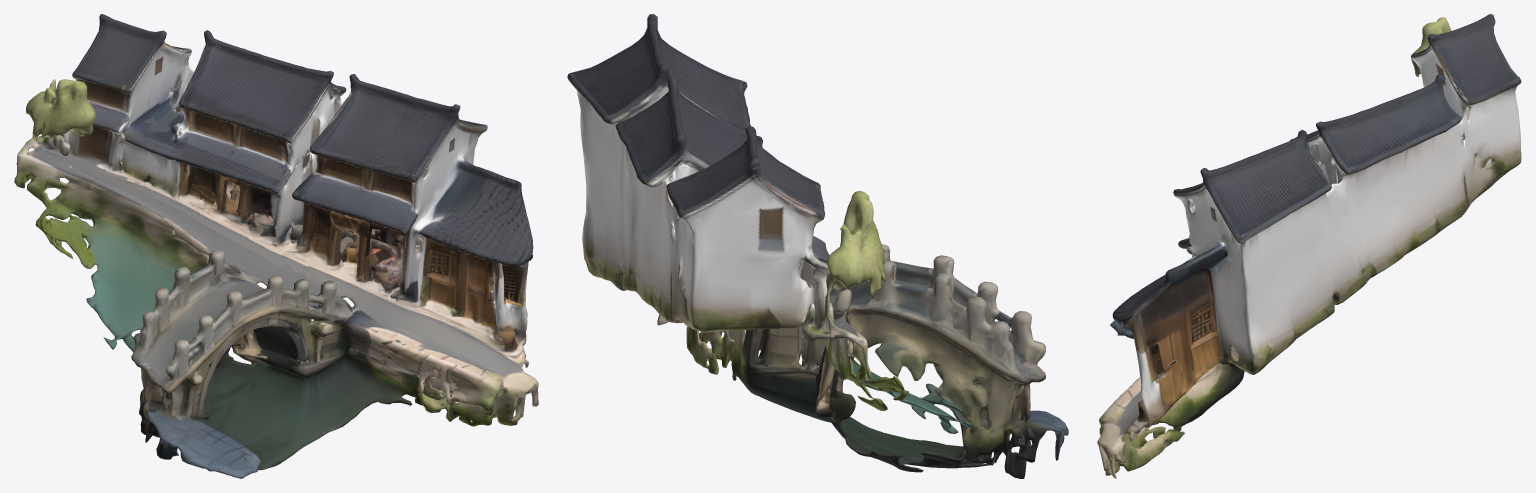
3 renders of one model, left to right at view 1: azimuth 30°, elevation 25°; view 2: azimuth 150°, elevation 25°; view 3: azimuth 270°, elevation 25°, orthographic. The views are drawn at different scales.
Visible parts, largest first — view 1: material.001; view 2: material.001; view 3: material.001.
Part boxes in pixels (x1,y1,x2,y2): material.001: [14, 14, 538, 478]; material.001: [567, 14, 1068, 478]; material.001: [1097, 14, 1521, 478].
Size of the model in its own units: 0.7843 by 0.7204 by 0.7787.
Materials: 1 (1 with a texture image).
